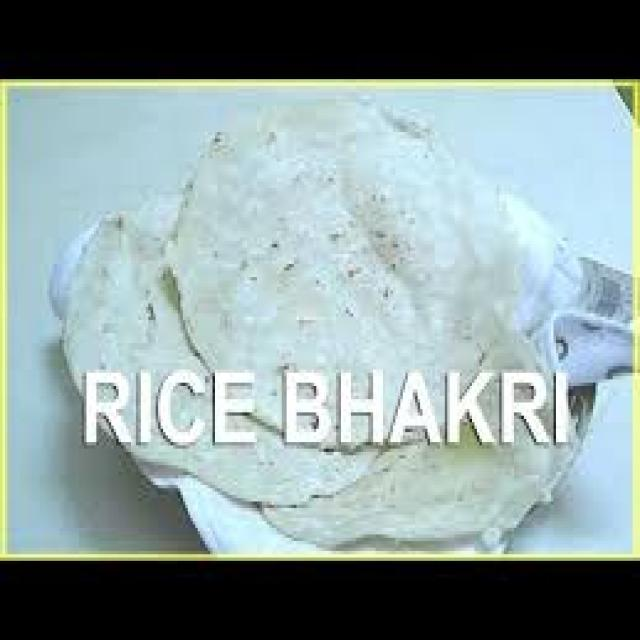RICE BHAKRI: (66, 99, 579, 543)
